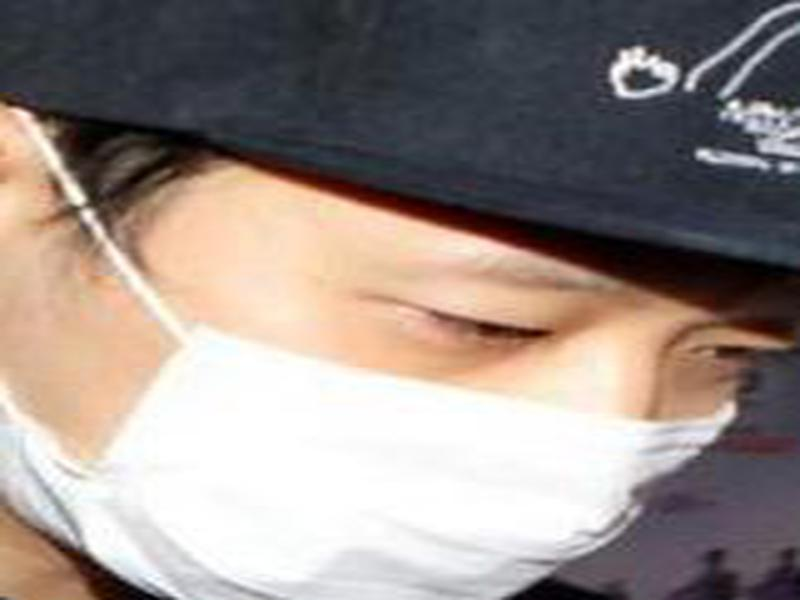with_mask: (1, 108, 800, 600)
